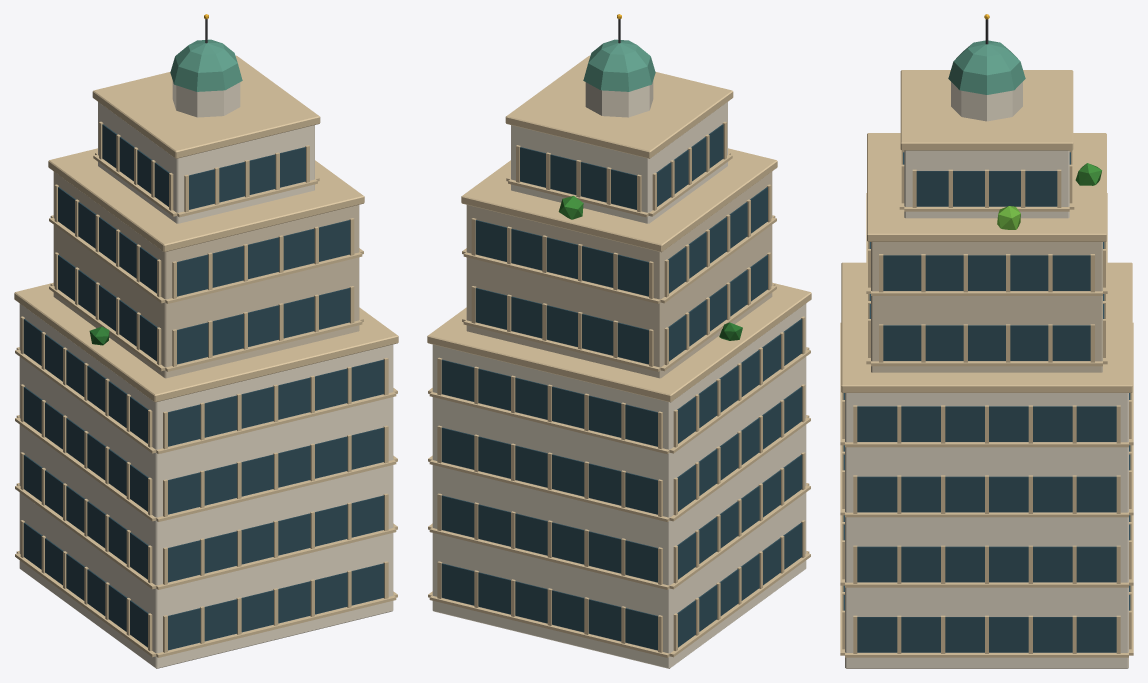
The model's file is tower_a.glb.
3 views of the same model, side by side, from view 1: azimuth 30°, elevation 25°; view 2: azimuth 150°, elevation 25°; view 3: azimuth 270°, elevation 25° (orthographic). The views are drawn at different scales.
Parts seen in each view (by area): view 1: tower; view 2: tower; view 3: tower.
Boxes of the visible parts, bbox=[...] form: tower: bbox=[14, 14, 398, 668]; tower: bbox=[427, 14, 811, 668]; tower: bbox=[840, 14, 1133, 668].
Bounding box in the file's own units: 11.36 × 25.47 × 11.36.
